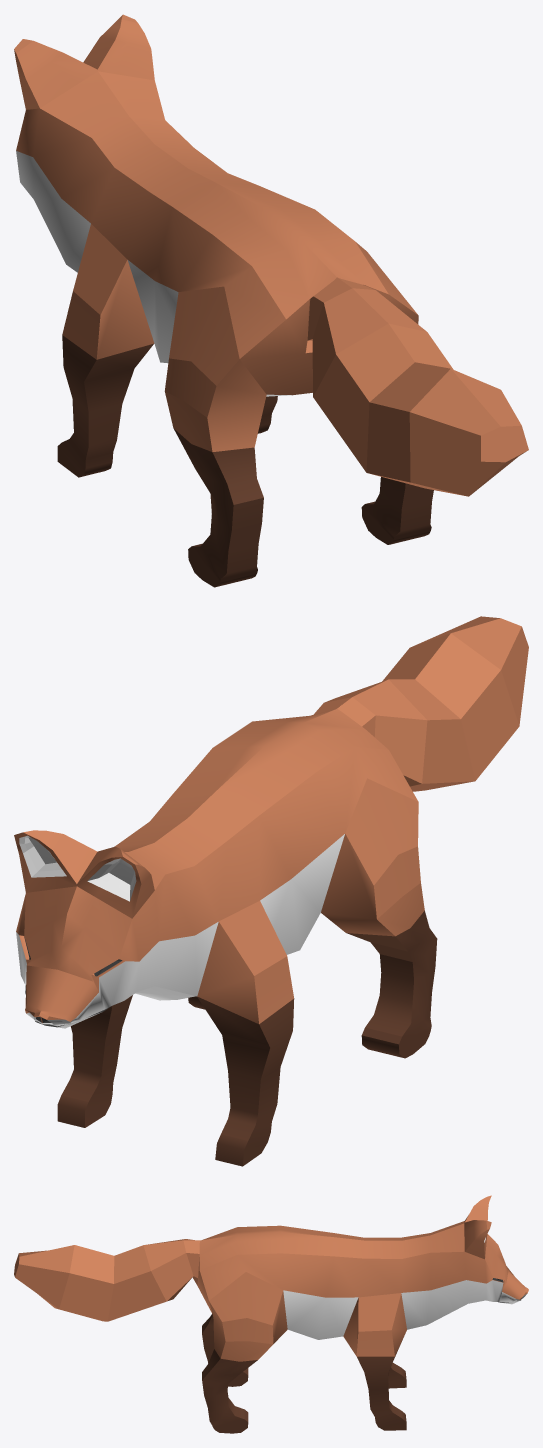
The model's file is splashModel.fbx.
3 views of the same model, one above another, from view 1: azimuth 30°, elevation 25°; view 2: azimuth 150°, elevation 25°; view 3: azimuth 270°, elevation 25° (orthographic). The views are drawn at different scales.
Parts seen in each view (by area): view 1: pCube6; view 2: pCube6; view 3: pCube6.
Boxes of the visible parts, x1,y1,x2,y2 form: pCube6: [14, 14, 528, 587]; pCube6: [14, 616, 528, 1166]; pCube6: [14, 1195, 528, 1433].
Size of the model in its own units: 3.08 by 4.74 by 11.22.
